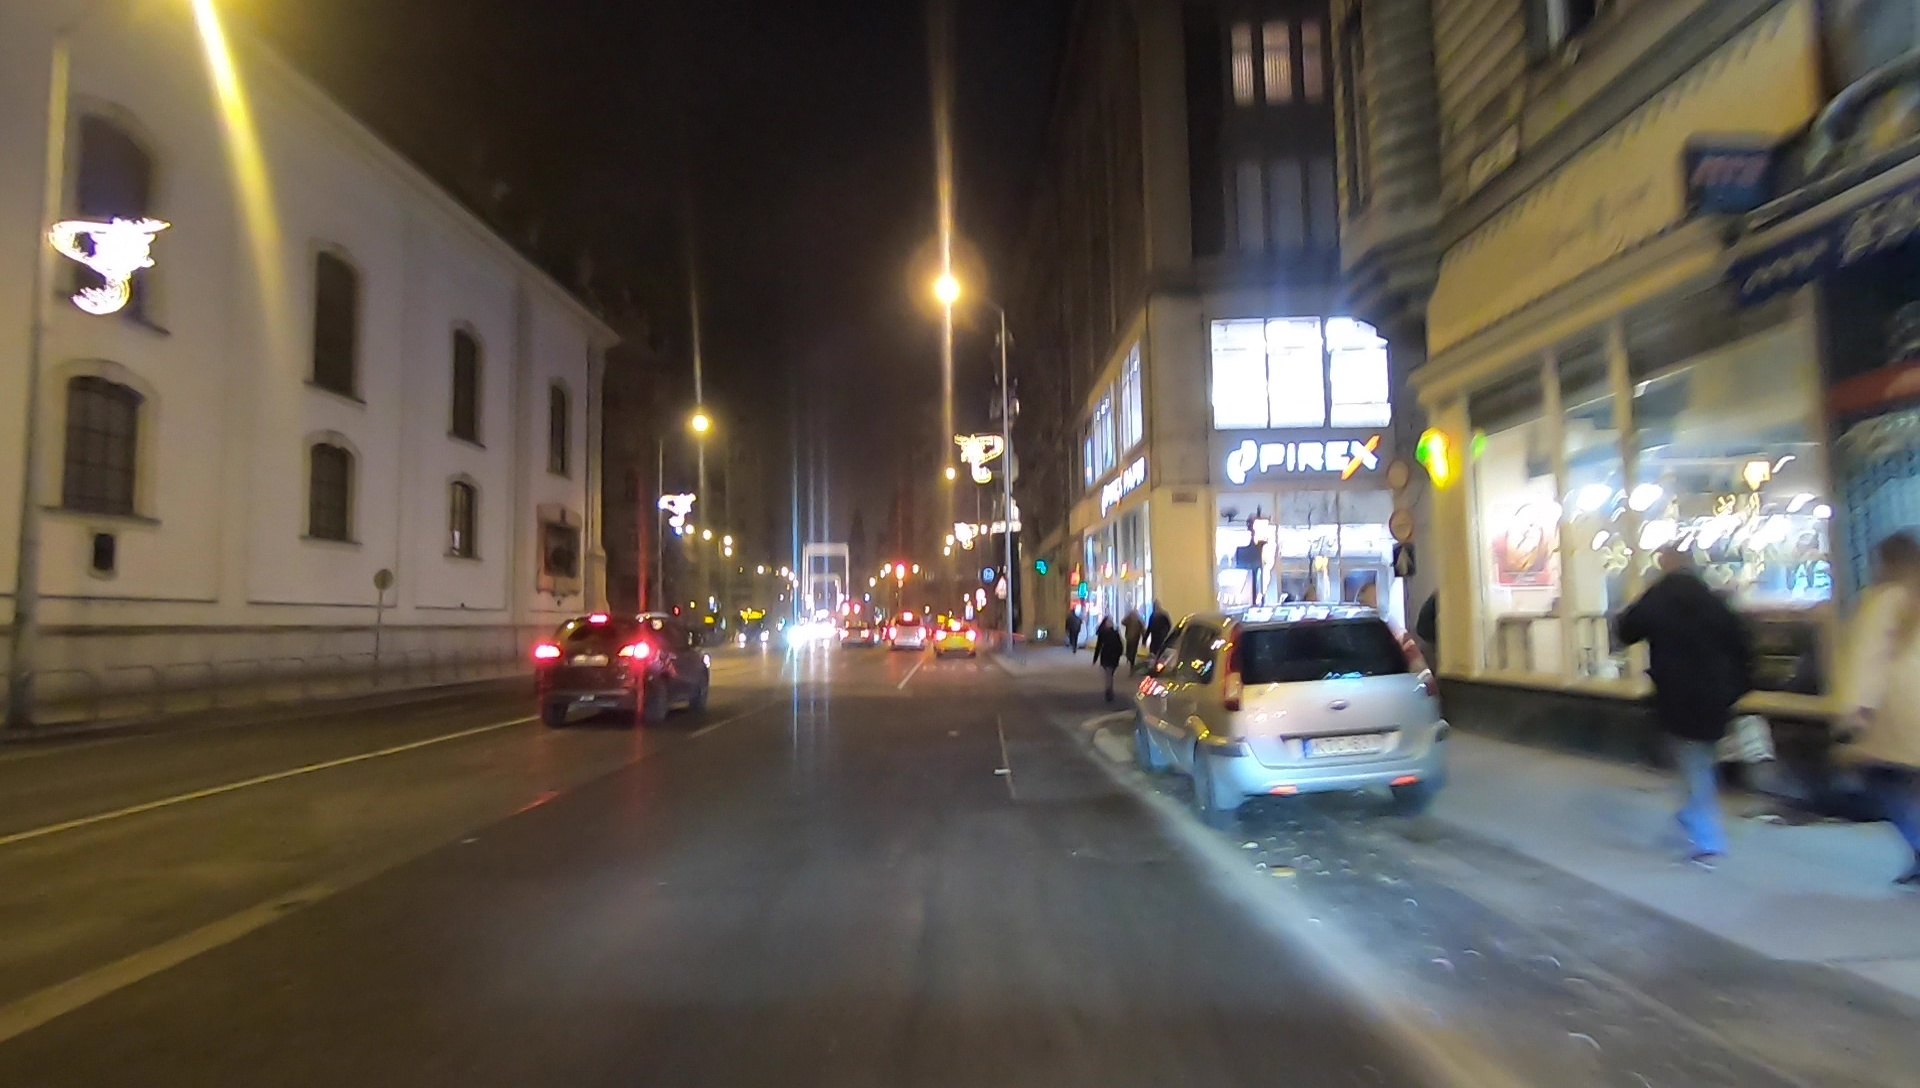person: (1614, 537, 1751, 873), (1834, 528, 1920, 895), (1095, 617, 1119, 706), (1147, 598, 1172, 669), (1120, 610, 1143, 675), (1063, 603, 1082, 656)
